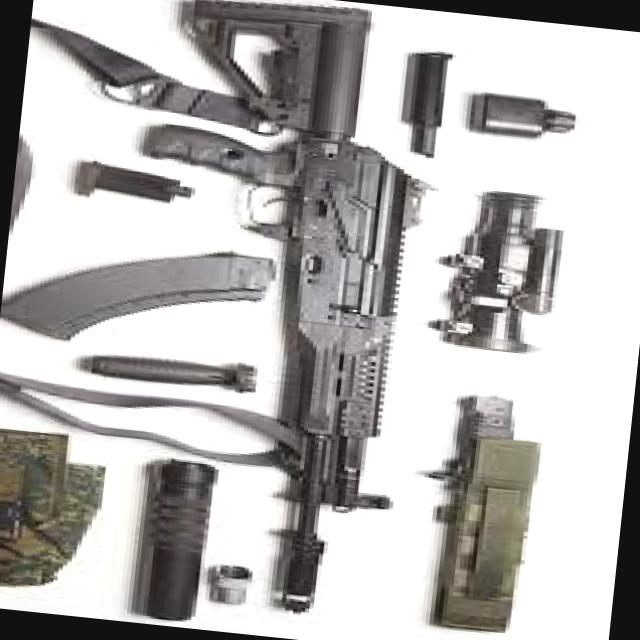long weapon: (142, 1, 438, 584)
